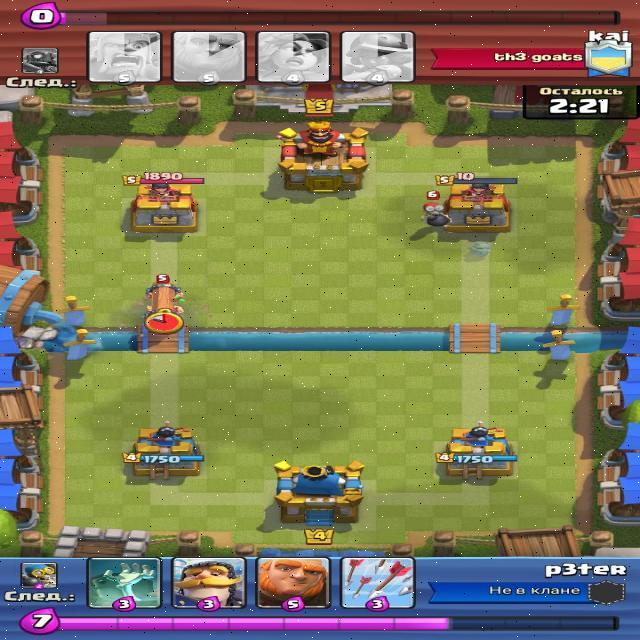EBRam: (148, 285, 185, 319)
EBomber: (423, 205, 450, 226)
EKingTower: (282, 126, 365, 189)
EnemyPrincessTower: (445, 174, 513, 231), (130, 184, 196, 234)
OwnKingTower: (278, 466, 367, 525)
OwnPrincessTower: (441, 433, 516, 476), (137, 439, 194, 471)
